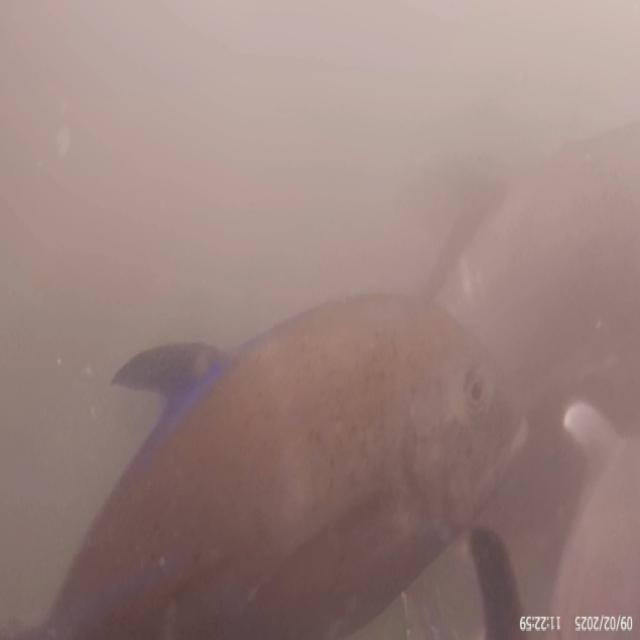ikan: (36, 287, 528, 636)
